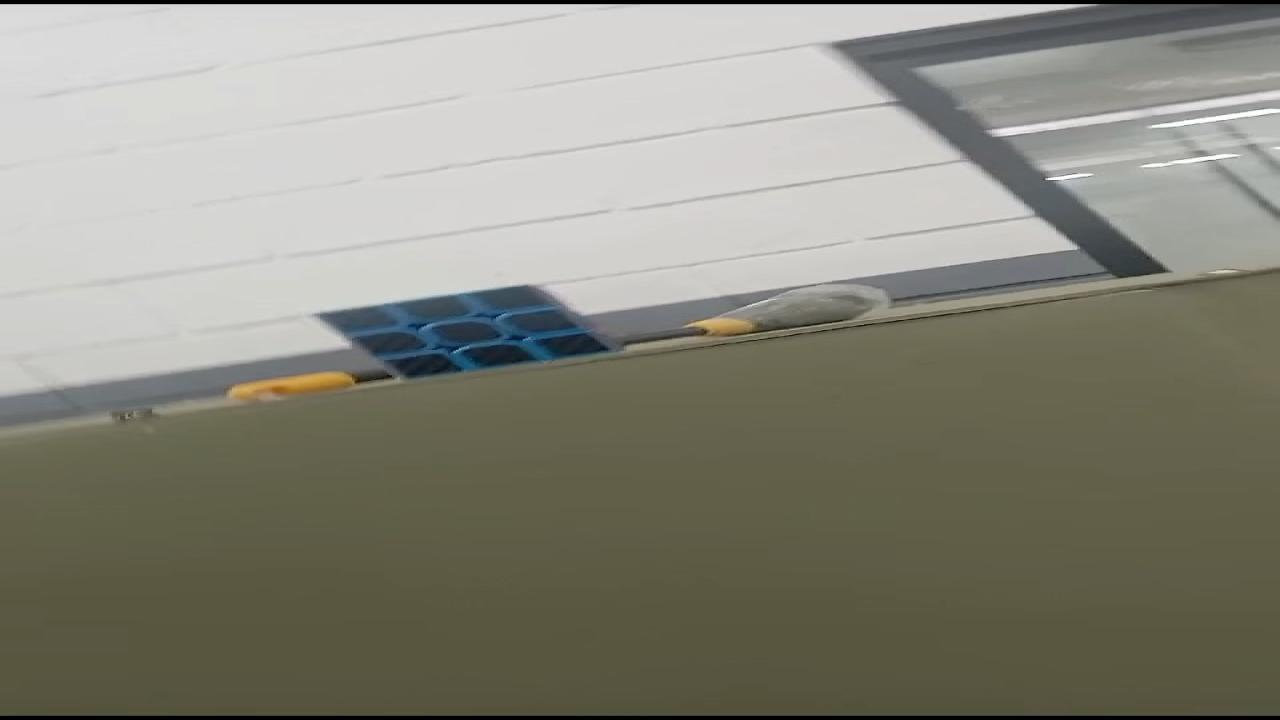Cube: (317, 282, 630, 386)
